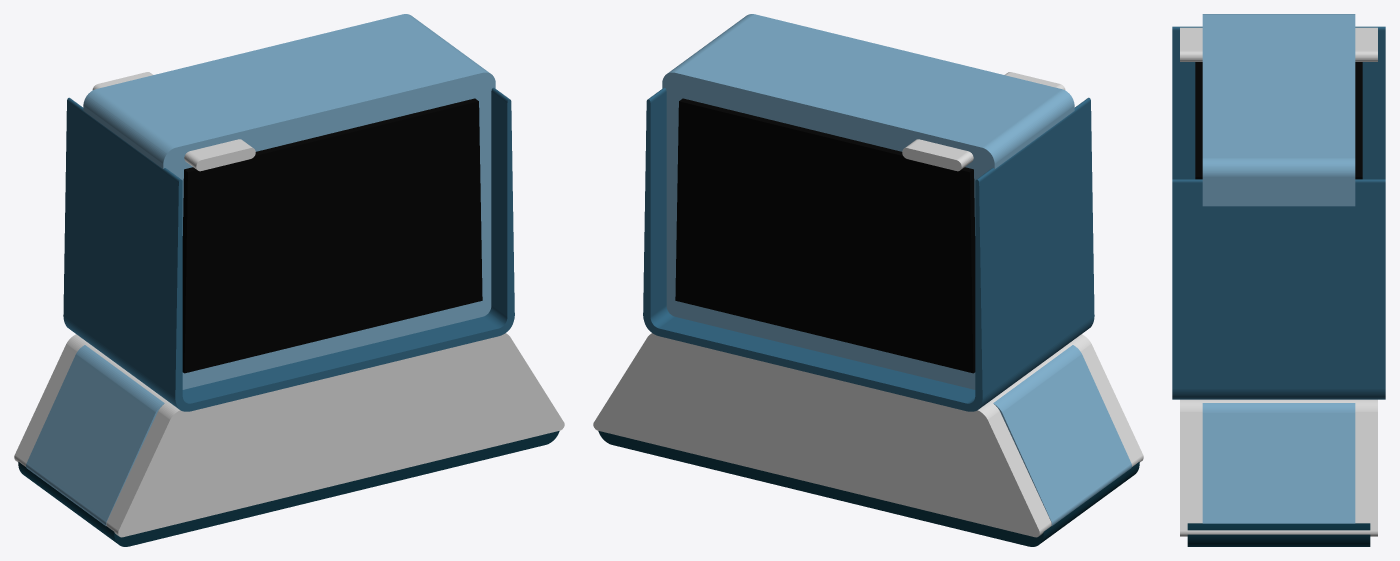
3 renders of one model, left to right at view 1: azimuth 30°, elevation 25°; view 2: azimuth 150°, elevation 25°; view 3: azimuth 270°, elevation 25°, orthographic. The views are drawn at different scales.
Visible parts, largest first — view 1: U+1F4BB_layer01_obj00, U+1F4BB_layer03_obj01, U+1F4BB_layer00_obj00, U+1F4BB_layer04_obj00, U+1F4BB_layer00_obj01, U+1F4BB_layer02_obj00, U+1F4BB_layer03_obj00; view 2: U+1F4BB_layer01_obj00, U+1F4BB_layer03_obj01, U+1F4BB_layer00_obj00, U+1F4BB_layer04_obj00, U+1F4BB_layer00_obj01, U+1F4BB_layer02_obj00, U+1F4BB_layer03_obj00; view 3: U+1F4BB_layer04_obj00, U+1F4BB_layer00_obj00, U+1F4BB_layer00_obj01, U+1F4BB_layer03_obj01, U+1F4BB_layer02_obj00, U+1F4BB_layer01_obj00, U+1F4BB_layer03_obj00.
Part boxes in pixels (<box>): U+1F4BB_layer01_obj00: <box>182,98,482,373</box>; U+1F4BB_layer03_obj01: <box>14,333,564,537</box>; U+1F4BB_layer00_obj00: <box>83,14,495,389</box>; U+1F4BB_layer04_obj00: <box>63,87,514,411</box>; U+1F4BB_layer00_obj01: <box>26,345,164,525</box>; U+1F4BB_layer02_obj00: <box>18,431,559,546</box>; U+1F4BB_layer03_obj00: <box>92,72,255,171</box>; U+1F4BB_layer01_obj00: <box>675,98,975,373</box>; U+1F4BB_layer03_obj01: <box>593,333,1143,537</box>; U+1F4BB_layer00_obj00: <box>662,14,1074,389</box>; U+1F4BB_layer04_obj00: <box>643,87,1094,411</box>; U+1F4BB_layer00_obj01: <box>993,345,1131,525</box>; U+1F4BB_layer02_obj00: <box>598,431,1139,546</box>; U+1F4BB_layer03_obj00: <box>902,72,1065,171</box>; U+1F4BB_layer04_obj00: <box>1172,26,1385,399</box>; U+1F4BB_layer00_obj00: <box>1202,14,1355,206</box>; U+1F4BB_layer00_obj01: <box>1202,403,1355,523</box>; U+1F4BB_layer03_obj01: <box>1180,399,1377,536</box>; U+1F4BB_layer02_obj00: <box>1187,523,1370,546</box>; U+1F4BB_layer01_obj00: <box>1195,62,1362,179</box>; U+1F4BB_layer03_obj00: <box>1180,27,1377,61</box>.
Bounding box in the file's own units: 0.3228 × 0.2621 × 0.14.
